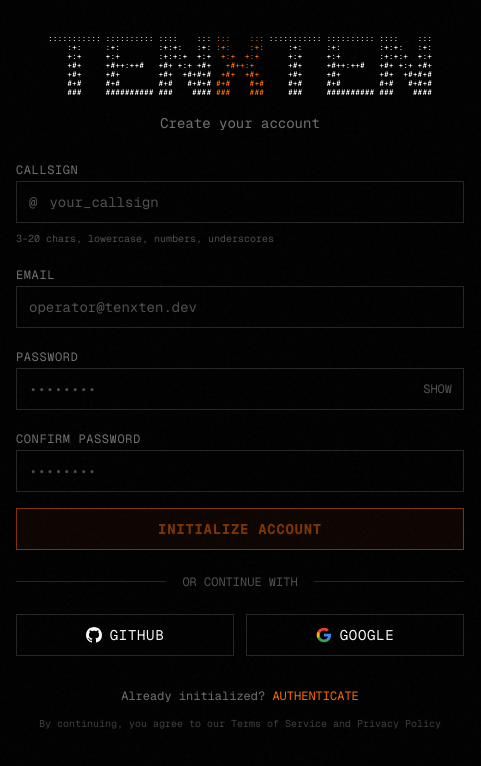
Test: Signup Page › should show passwords match indicator
The width and height of the screenshot is (481, 766).
Type "Password123!" into the password field labelled "Password" at point(240, 388), box [16,368,464,410]
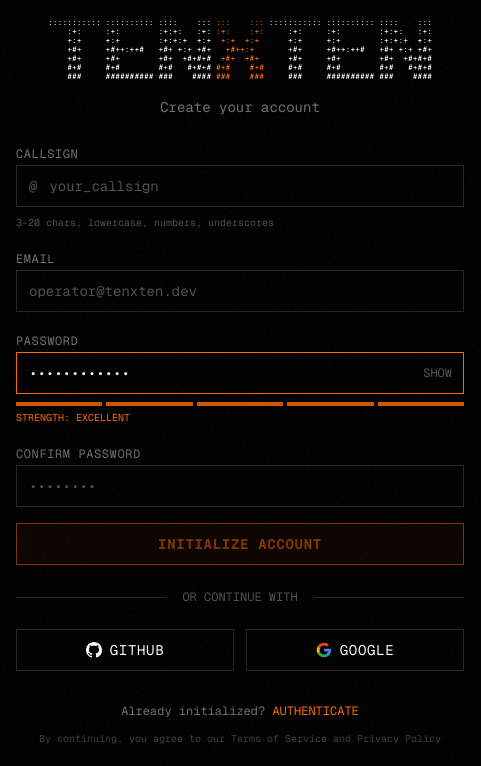
Type "Password123!" into the password field labelled "Confirm Password" at point(240, 486), box [16,465,464,507]
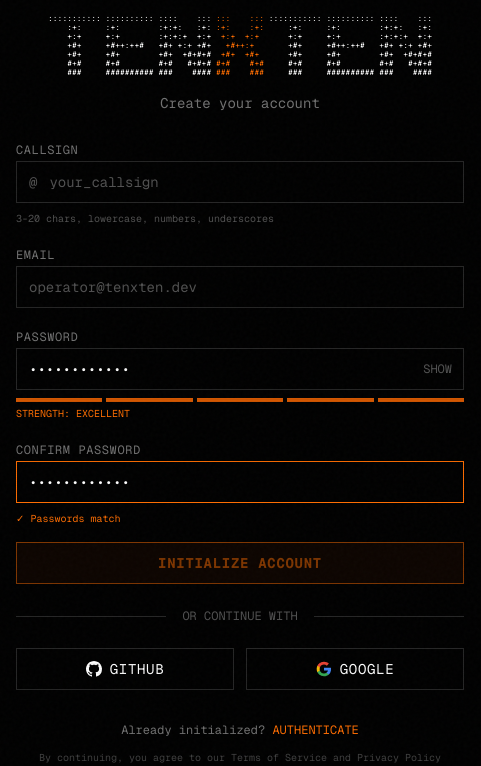
Check: the text "✓ Passwords match" is shown, box [16,512,120,525]
